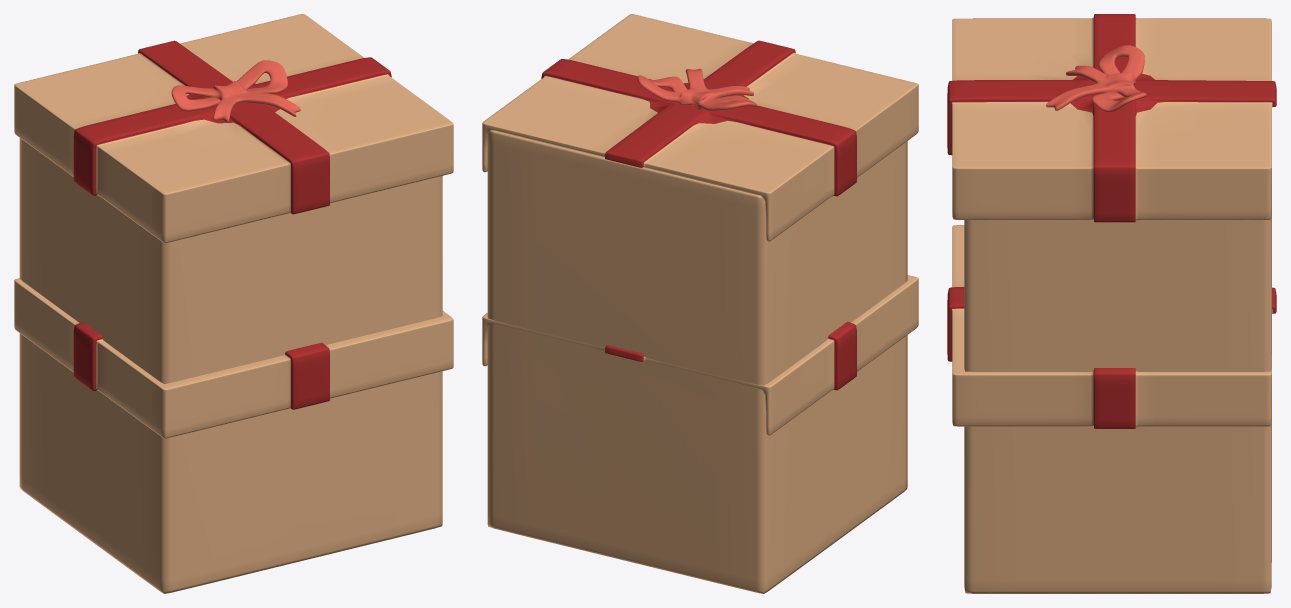
File: HediyeKutusu.fbx
3 renders of one model, left to right at view 1: azimuth 30°, elevation 25°; view 2: azimuth 150°, elevation 25°; view 3: azimuth 270°, elevation 25°, orthographic. The views are drawn at different scales.
Visible parts, largest first — view 1: Cube.002, Cube.001; view 2: Cube.002, Cube.001; view 3: Cube.002, Cube.001.
Part boxes in pixels (bbox=[...]): Cube.002: bbox=[14, 14, 453, 593]; Cube.001: bbox=[14, 278, 453, 593]; Cube.002: bbox=[482, 14, 918, 593]; Cube.001: bbox=[482, 275, 918, 593]; Cube.002: bbox=[947, 14, 1276, 593]; Cube.001: bbox=[947, 225, 1276, 593].
Size of the model in its own units: 1.61 by 2.19 by 1.44.
